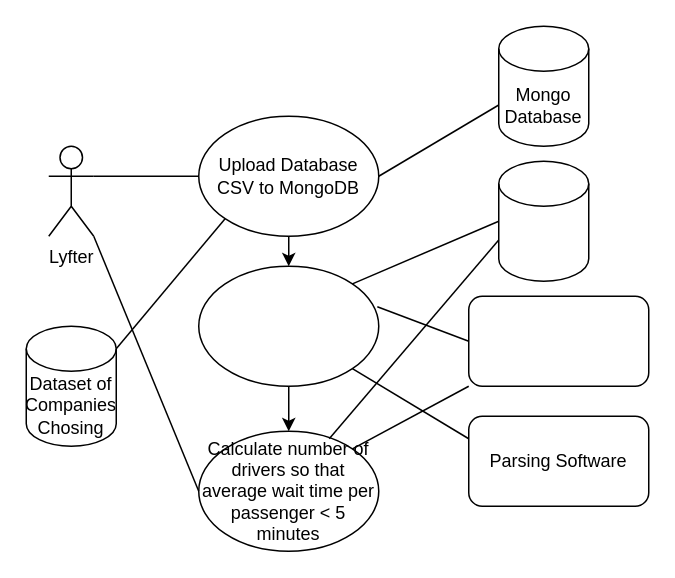
Some shapes in this 675 by 578 pixel diagram are drawn without their labels. The centre of each missing label's shape, as x and y in pixels:
Byfter Algorithm: the point at 558,340
Open Route Service: the point at 543,220
Simulate Drivers and Passengers: the point at 288,325
